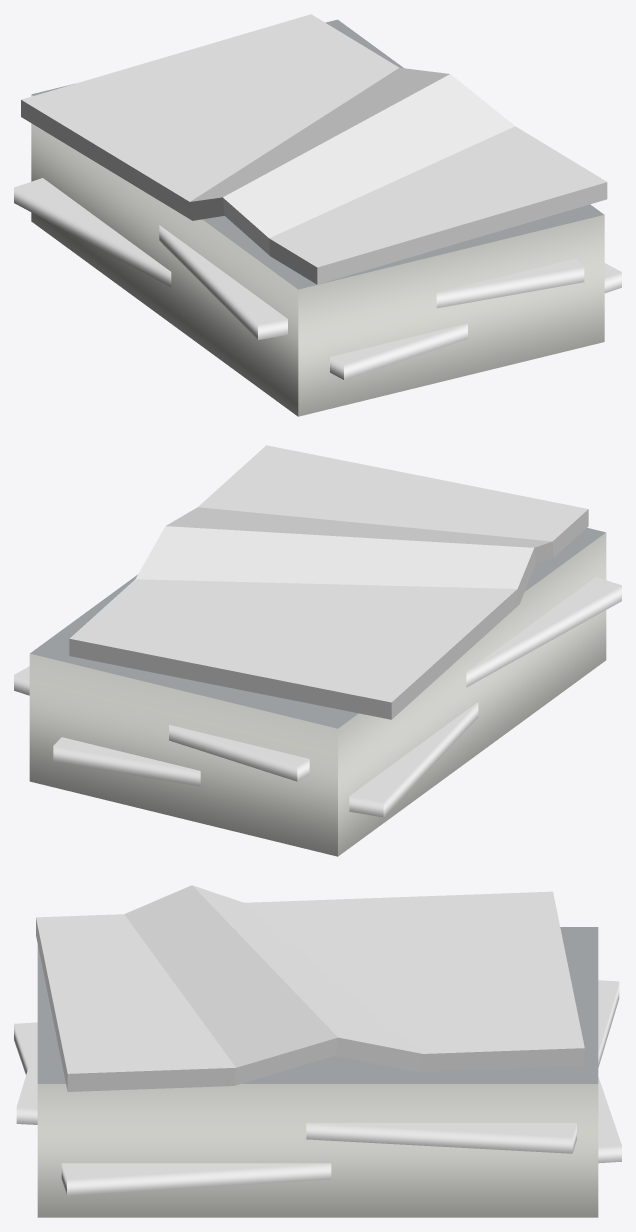
Rendered from Paper_Pile_01.FBX.
The picture shows the model from 3 angles, top to bottom: view 1: azimuth 30°, elevation 25°; view 2: azimuth 150°, elevation 25°; view 3: azimuth 270°, elevation 25°; orthographic projection. The views are drawn at different scales.
Visible parts, largest first — view 1: Paper_Pile_01; view 2: Paper_Pile_01; view 3: Paper_Pile_01.
Boxes of the visible parts, box(x1,y1,x2,y2) form: Paper_Pile_01: box(14, 14, 621, 416); Paper_Pile_01: box(14, 445, 621, 856); Paper_Pile_01: box(14, 885, 621, 1217).
Size of the model in its own units: 26.69 by 11.46 by 36.17.
